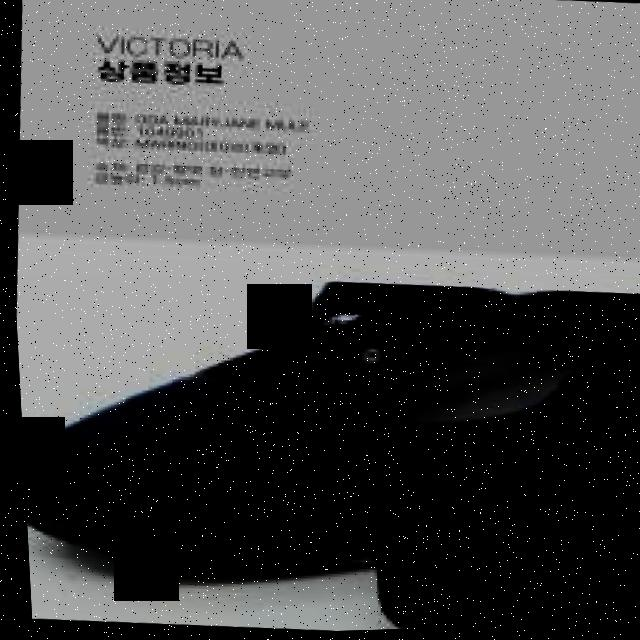shoe: (19, 284, 640, 562), (370, 372, 640, 631)
